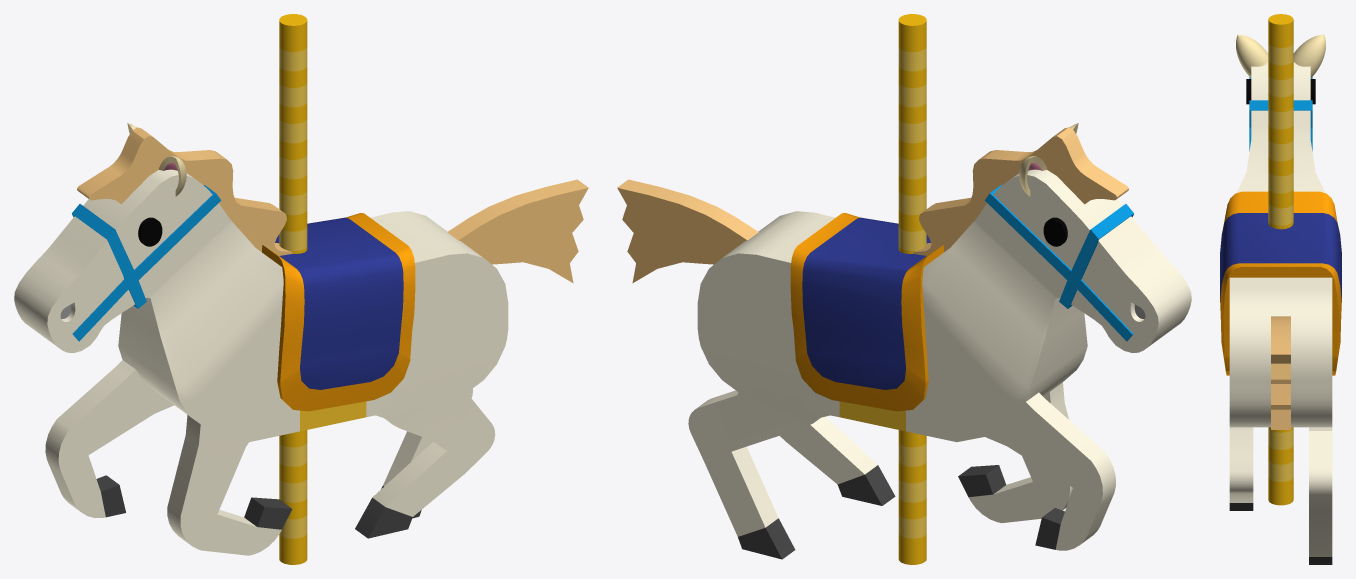
The model's file is carousel_horse.glb.
3 views of the same model, side by side, from view 1: azimuth 30°, elevation 25°; view 2: azimuth 150°, elevation 25°; view 3: azimuth 270°, elevation 25° (orthographic). The views are drawn at different scales.
Parts seen in each view (by area): view 1: Plane.226, Cube.541, Cylinder.431, Plane.228; view 2: Plane.226, Cube.541, Cylinder.431, Plane.228; view 3: Plane.226, Cube.541, Cylinder.431, Plane.228, Circle.2371.
Part boxes in pixels (<box>): Plane.226: <box>14,123,588,555</box>; Cube.541: <box>262,213,415,411</box>; Cylinder.431: <box>279,14,307,564</box>; Plane.228: <box>72,185,221,341</box>; Plane.226: <box>617,123,1191,559</box>; Cube.541: <box>790,213,943,411</box>; Cylinder.431: <box>898,14,926,564</box>; Plane.228: <box>984,185,1133,341</box>; Plane.226: <box>1229,34,1332,564</box>; Cube.541: <box>1220,191,1341,375</box>; Cylinder.431: <box>1268,14,1293,505</box>; Plane.228: <box>1249,77,1312,151</box>; Circle.2371: <box>1246,79,1315,104</box>.
Size of the model in its own units: 2.22 by 2.09 by 0.4757.
Materials: 1 (1 with a texture image).
